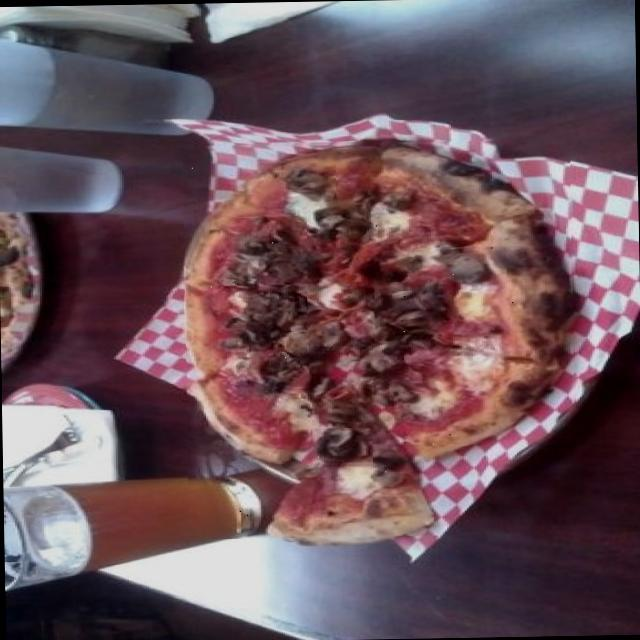mushrooms: (220, 214, 307, 280), (220, 284, 308, 334), (210, 318, 307, 362), (414, 244, 506, 288), (378, 289, 453, 336), (266, 161, 336, 203), (310, 307, 374, 347), (240, 352, 310, 388), (348, 340, 409, 380), (310, 426, 372, 463), (298, 200, 366, 233)
pizza: (185, 142, 572, 535)
